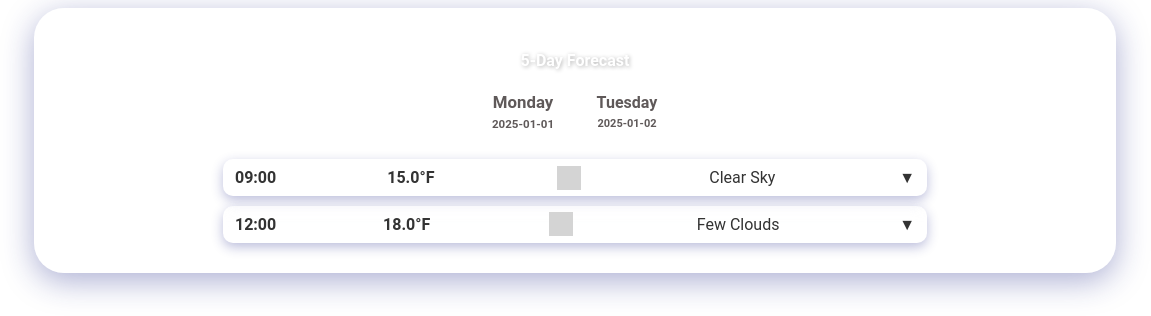
Scenario: ForecastDisplay Component › formats temperatures and wind speeds in °F when unit="F"
expect the text "15.0°F" is shown: met, box [387,168,434,187]
Click the text "09:00" at (575, 178), box [223,159,927,196]
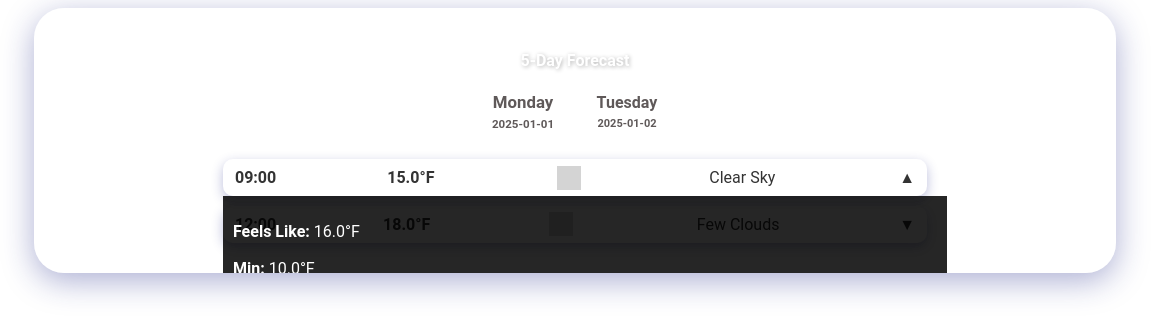
expect the text "Feels Like:" shows "16.0°F": met, box [314,222,360,241]
expect the text "Min:" shows "10.0°F": met, box [269,259,315,273]
